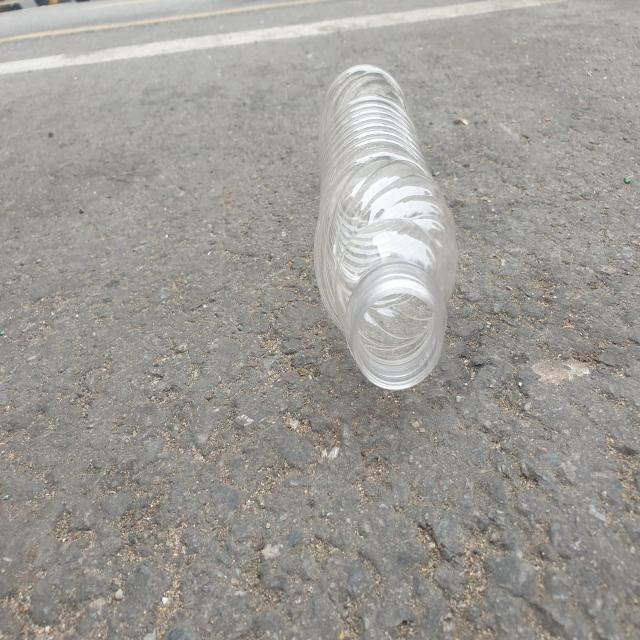plastic: (314, 64, 459, 390)
